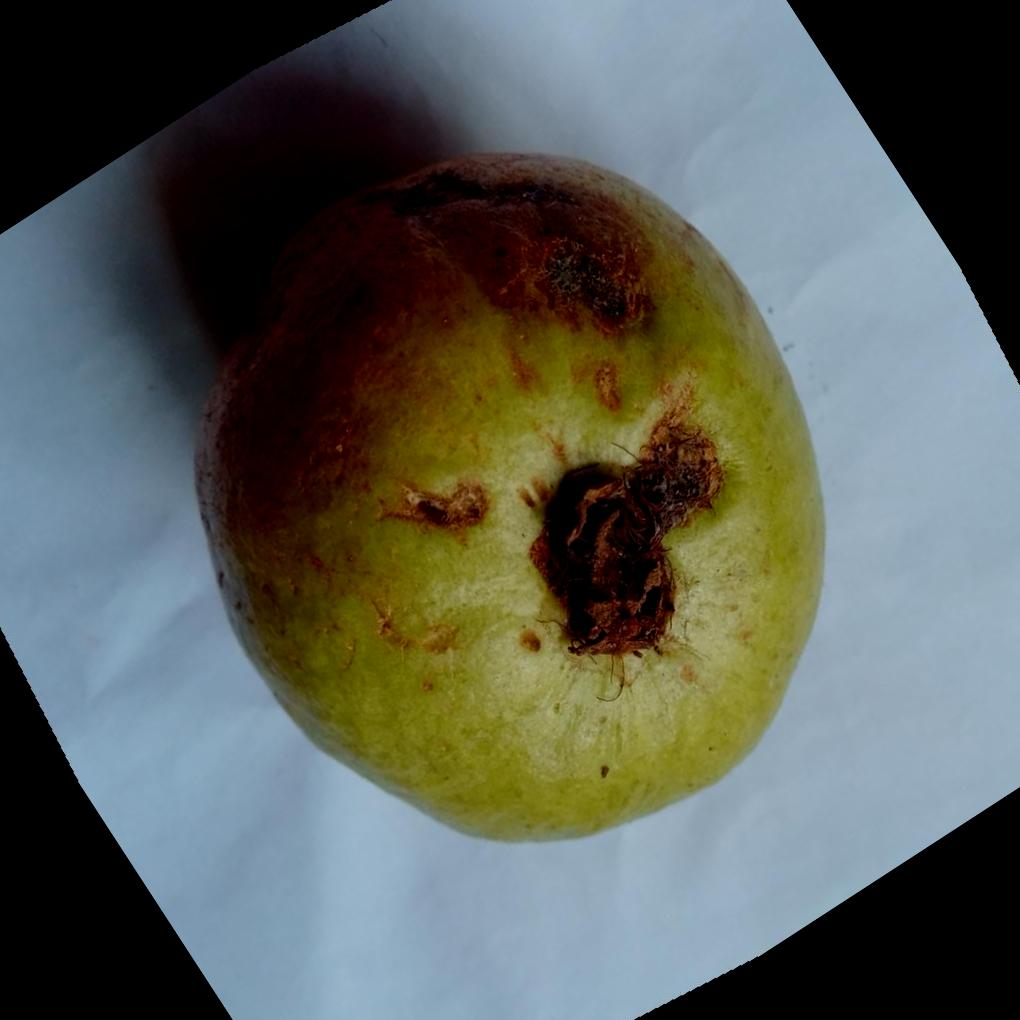FreshOrange: (194, 147, 832, 844)
